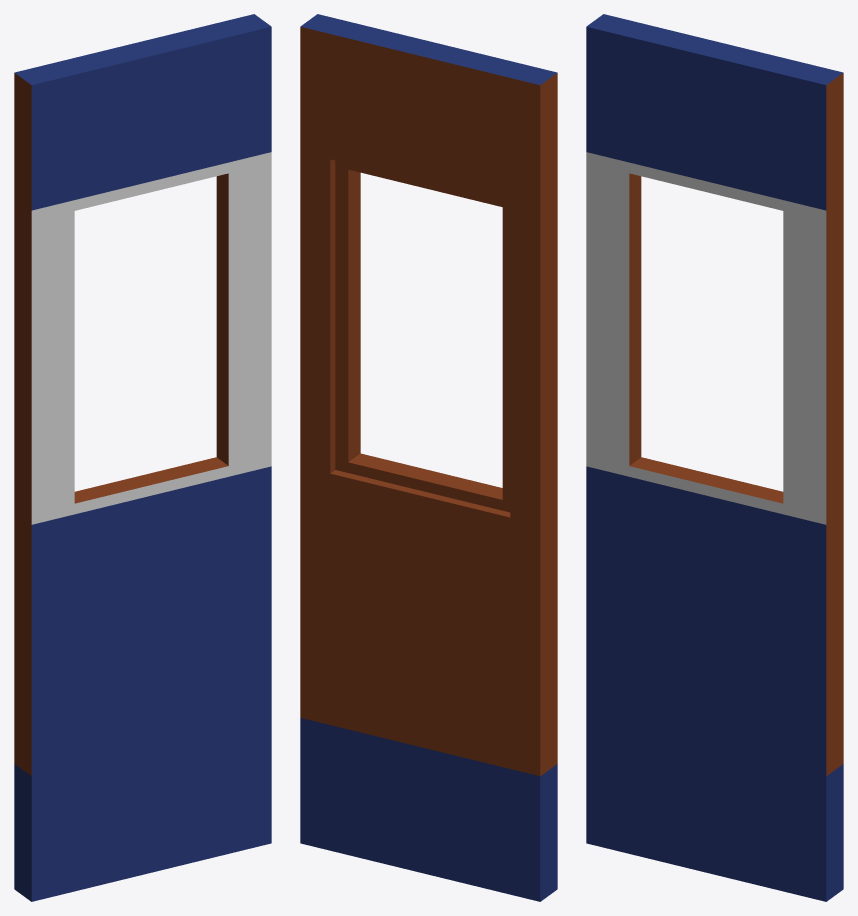
Rendered from cp_wall_tile_80x240_window_hole.fbx.
The picture shows the model from 3 angles, left to right: view 1: azimuth 30°, elevation 25°; view 2: azimuth 150°, elevation 25°; view 3: azimuth 330°, elevation 25°; orthographic projection.
Parts seen in each view (by area): view 1: wall_tile_80x240_window_hole; view 2: wall_tile_80x240_window_hole; view 3: wall_tile_80x240_window_hole.
Part boxes in pixels (x1,y1,x2,y2): wall_tile_80x240_window_hole: (14, 14, 271, 901); wall_tile_80x240_window_hole: (300, 14, 557, 901); wall_tile_80x240_window_hole: (586, 14, 843, 901).
Bounding box in the file's own units: 80 × 260 × 10.
1 material, 1 textured.
